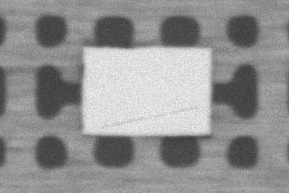DIE_CRACK: (153, 71, 289, 85)
